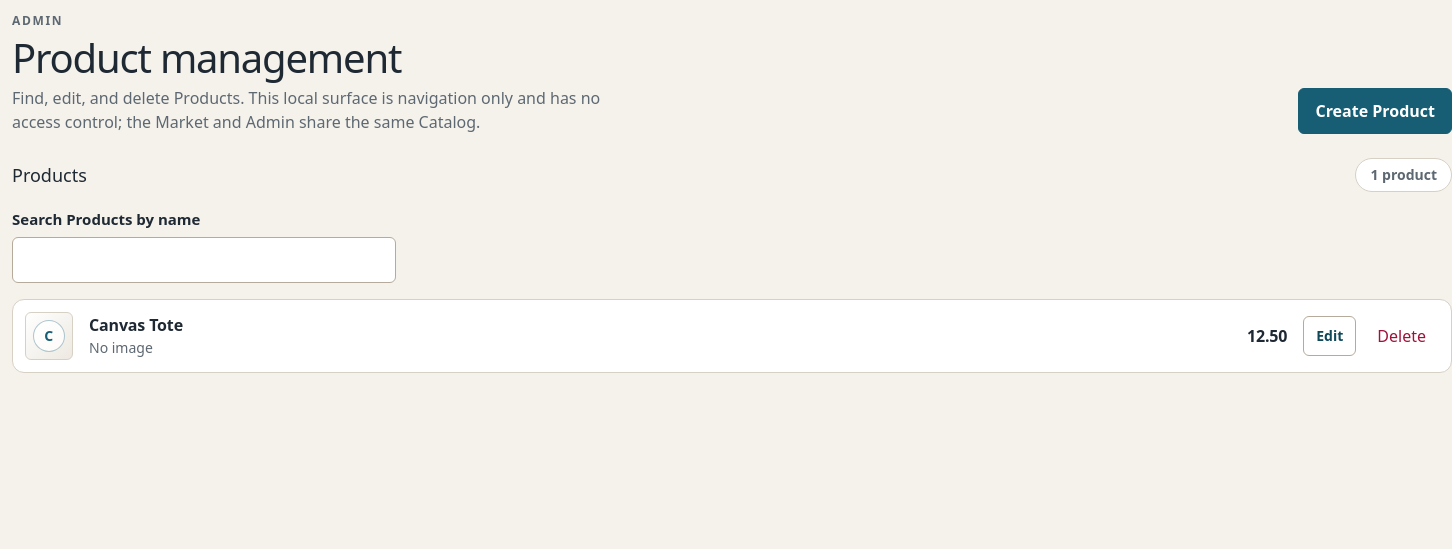
Scenario: AdminProducts › requires explicit confirmation and leaves the Product intact when cancelled
This screenshot has width=1452, height=549.
What coordinates should you click on to do the following:
click the button "Delete"
I would click on:
 (1402, 336)
Its box is [1364,316,1439,356].
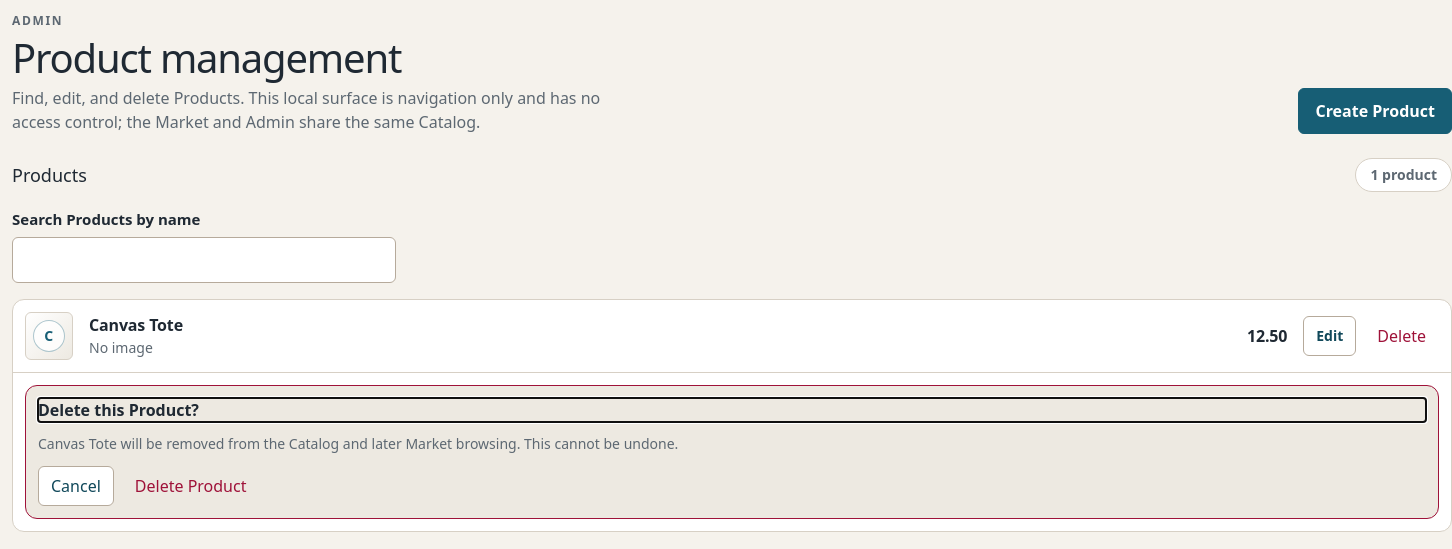
expect the heading "Delete this Product?" is shown: met, box [38,398,199,420]
What coordinates should you click on to do the following:
click the button "Cancel"
I would click on:
 (76, 486)
Its box is [38,466,114,506].
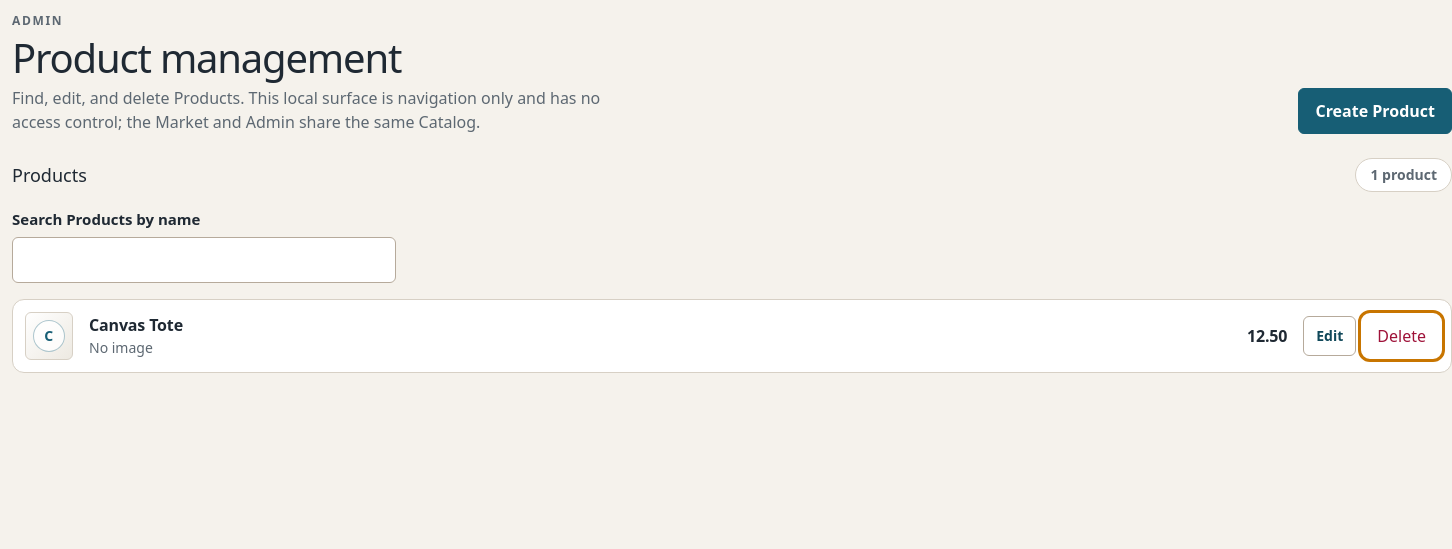
expect the heading "Canvas Tote" is shown: met, box [89,314,183,336]
expect the heading "Delete this Product?" is gone: met
